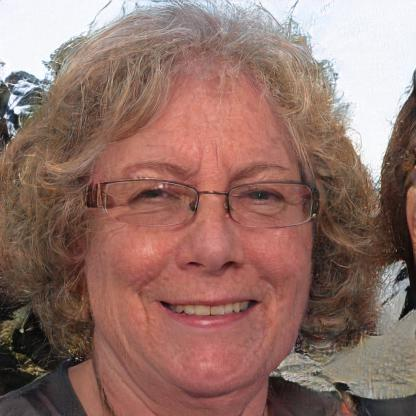glasses: (86, 171, 321, 237)
